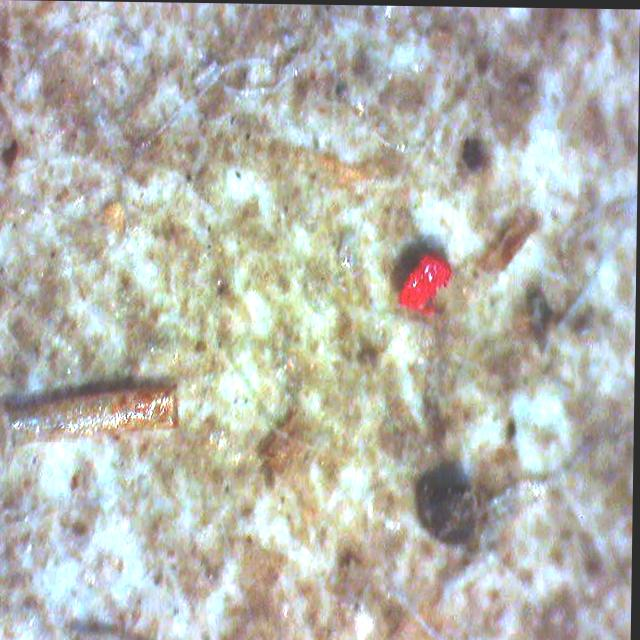microplastic: (399, 249, 455, 310)
